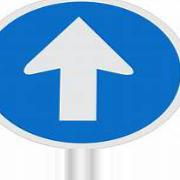forward: (2, 2, 180, 148)
